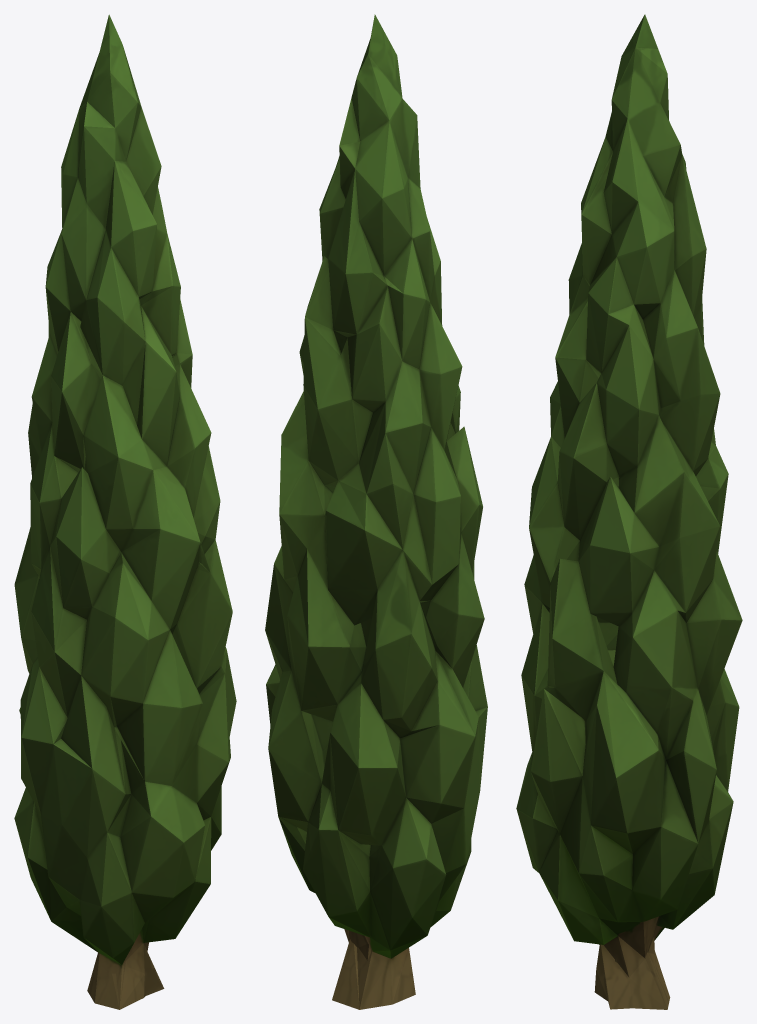
File: banco_LowPoly_Textured_00004_.glb
3 views of the same model, side by side, from view 1: azimuth 30°, elevation 25°; view 2: azimuth 150°, elevation 25°; view 3: azimuth 270°, elevation 25° (orthographic).
Parts seen in each view (by area): view 1: world; view 2: world; view 3: world.
Boxes of the visible parts, x1,y1,x2,y2 form: world: [14, 14, 236, 1009]; world: [265, 14, 487, 1009]; world: [516, 14, 742, 1009].
Size of the model in its own units: 0.2215 by 1 by 0.2088.
1 material, 1 textured.
